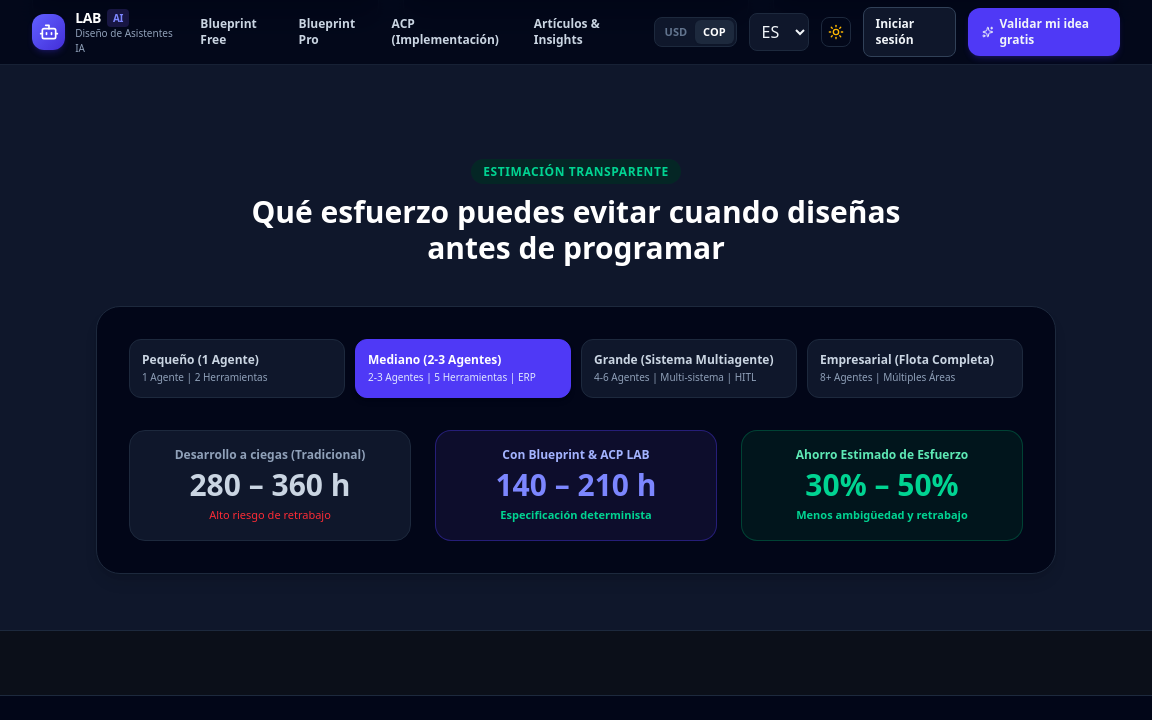
Test: LabLandingPage Component › interacts with the Impact Calculator buttons
(page scrolled)
Click the text "Pequeño (1 Agente)" at (200, 360), box [142,351,259,368]
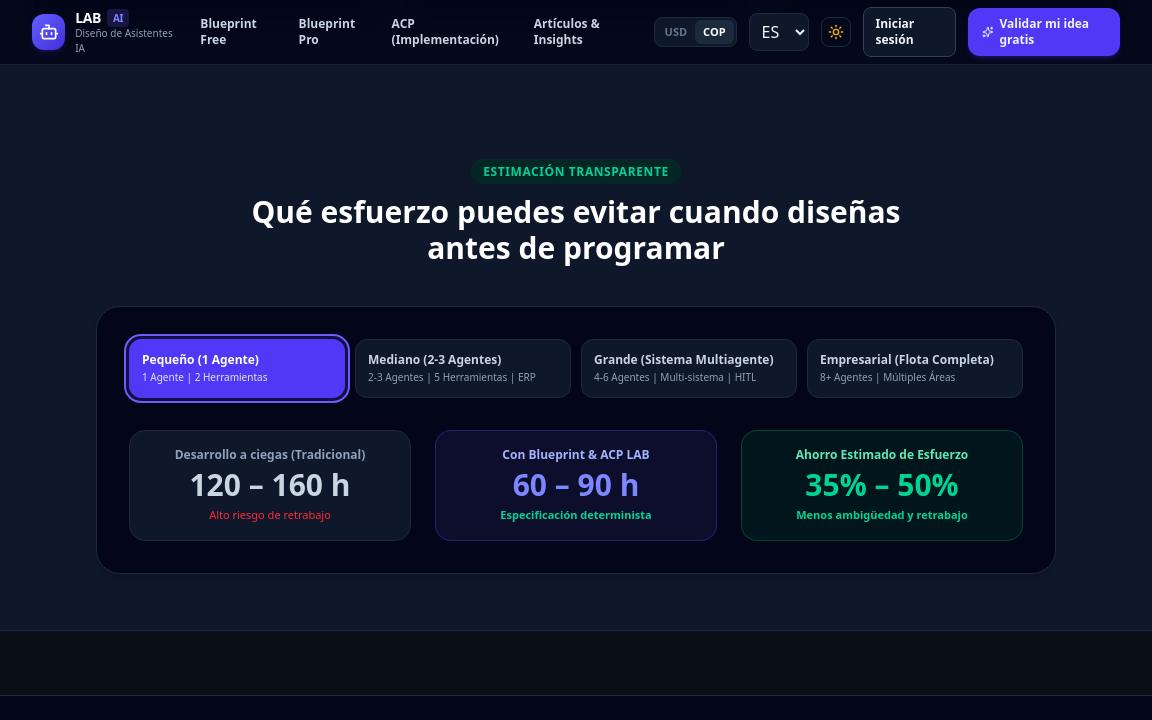
Now the text "120 – 160 h" is shown, box [190,464,351,505]
Now the text "60 – 90 h" is shown, box [513,464,639,505]
